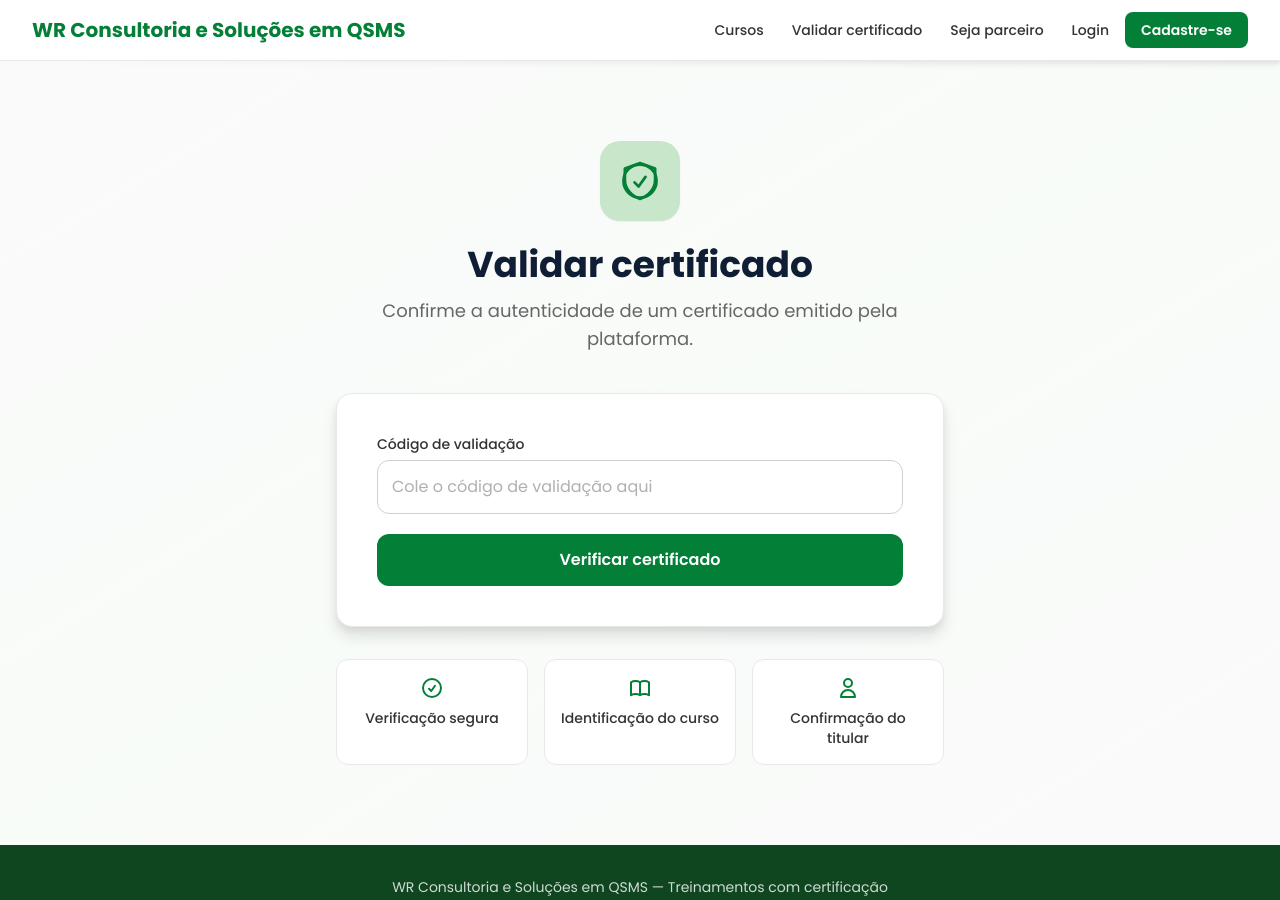
Test case: ValidateCertificate › shows server error on 5xx (network/server failure)
Type "SOME-CODE" into the field with test id "validate-code-input".
click(640, 487); type("SOME-CODE")  # box [377,460,903,514]
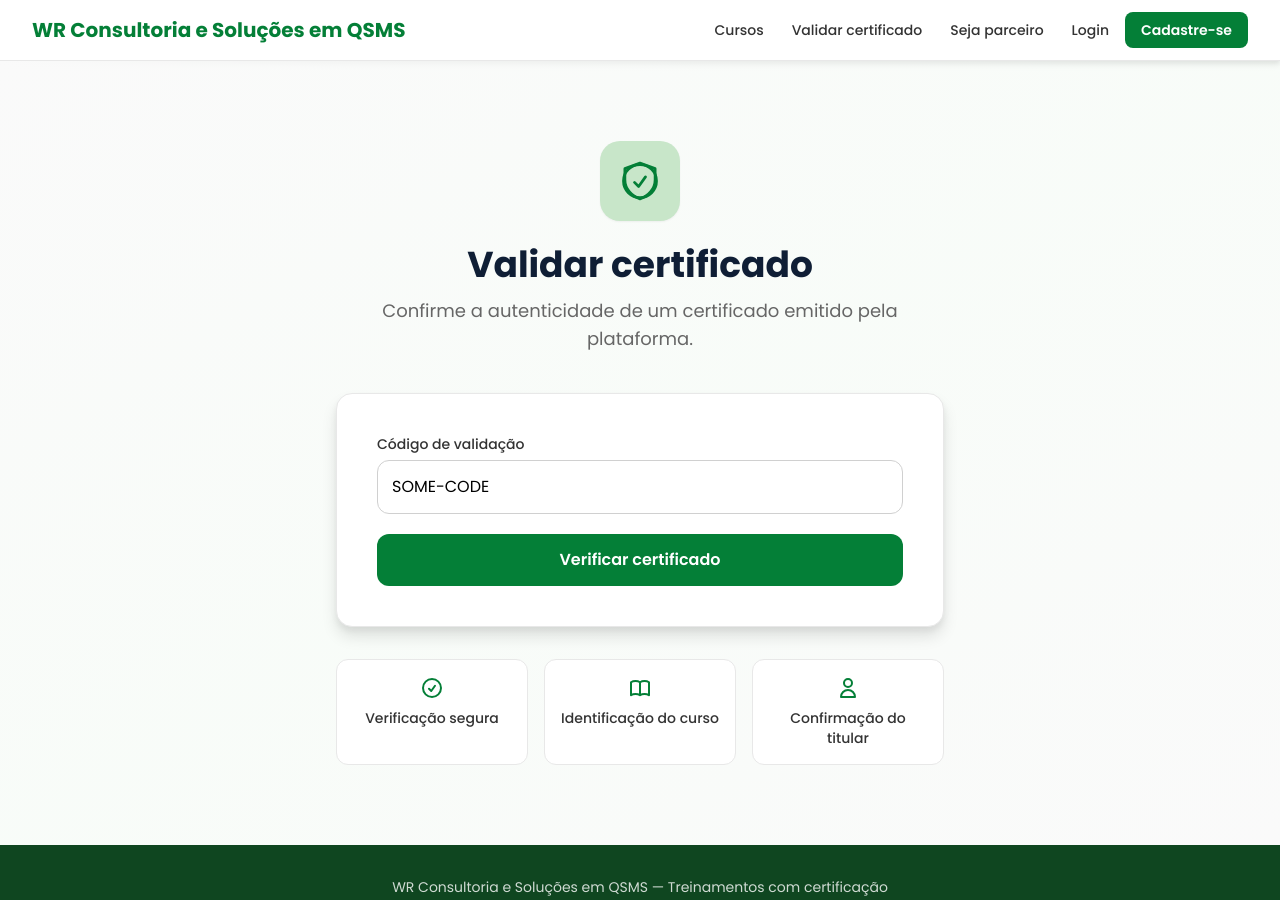
Submit the form, box [377,434,903,586]
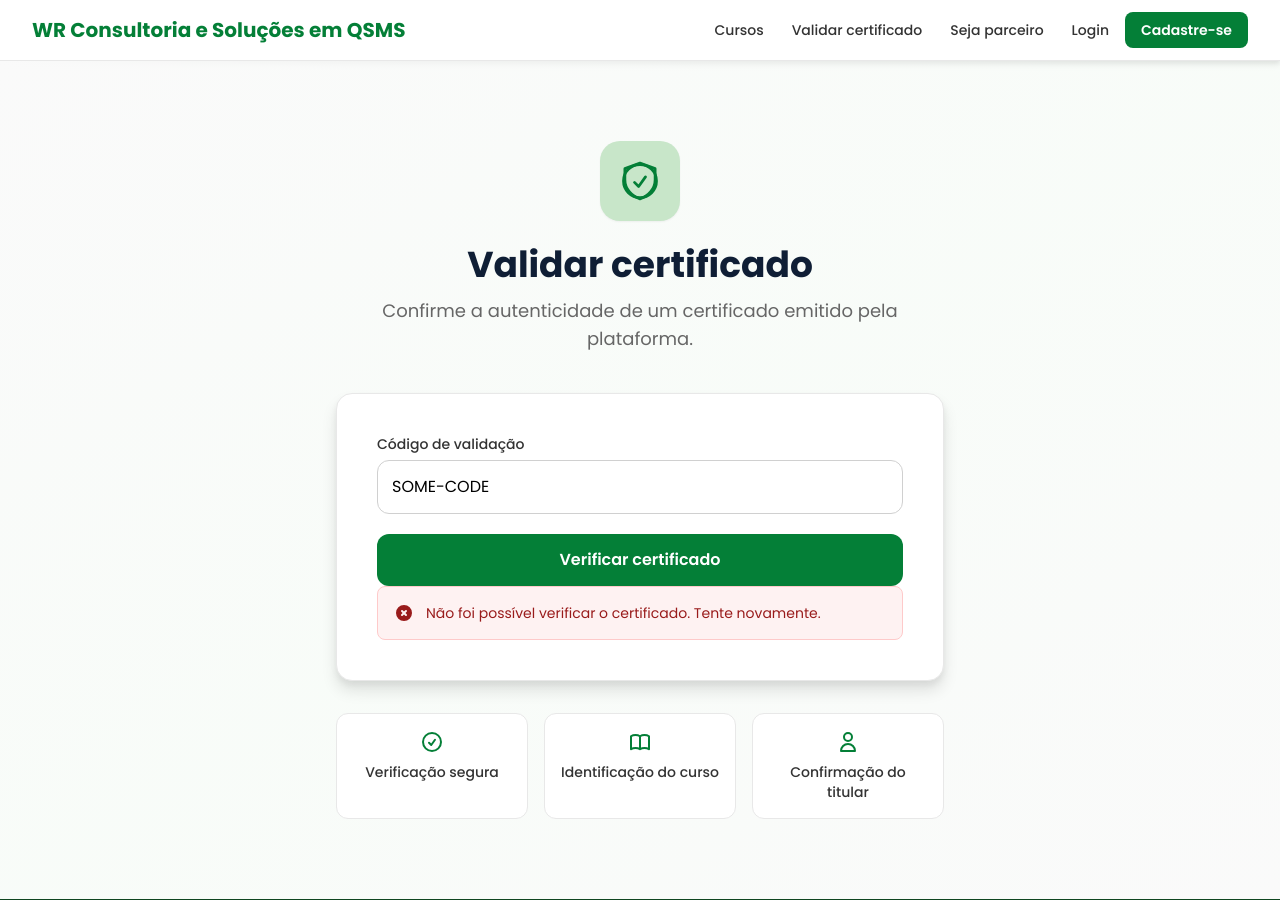
Expected: the message "Não foi possível verificar o certificado. Tente novamente." is shown, [377,586,903,640]
Expected: the text "Não foi possível verificar" is shown, [426,603,821,623]
